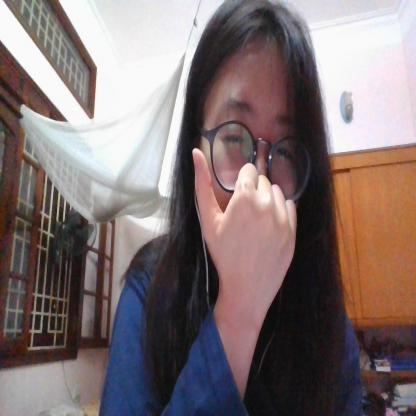right: (189, 135, 301, 292)
